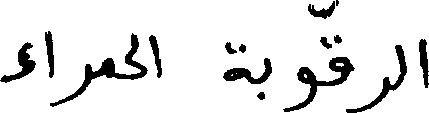ء: (0, 40, 34, 84)
ا: (146, 32, 159, 78), (43, 29, 53, 80), (418, 36, 426, 88)
ب: (255, 55, 270, 99)
ة: (222, 40, 246, 83)
ح: (121, 55, 146, 80)
ر: (52, 60, 90, 107), (348, 76, 388, 111)
ق: (319, 29, 349, 90)
ل: (124, 30, 142, 63), (394, 42, 404, 90)
م: (99, 55, 112, 78)
و: (282, 63, 314, 111)
